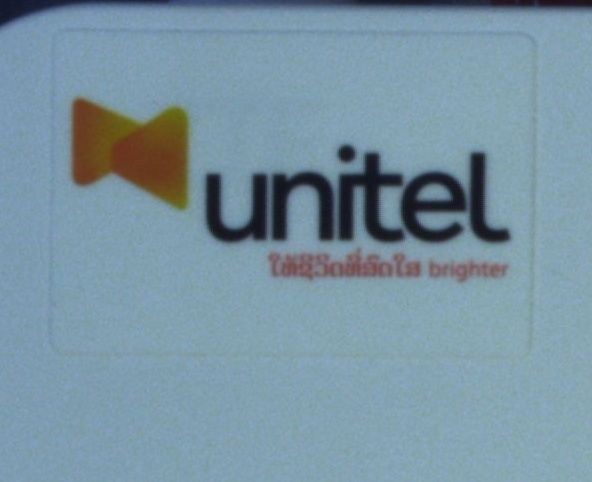BT_unitel: (70, 96, 515, 284)
